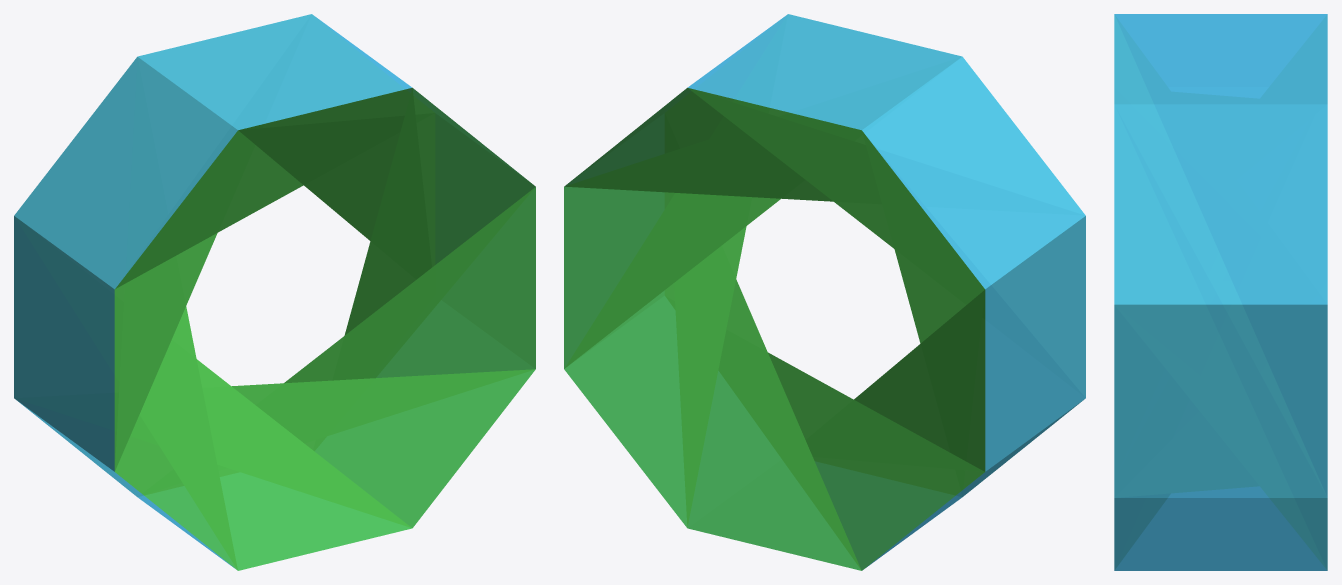
File: OctagonalIrisToroid.obj
The picture shows the model from 3 angles, left to right: view 1: azimuth 30°, elevation 25°; view 2: azimuth 150°, elevation 25°; view 3: azimuth 270°, elevation 25°; orthographic projection. The views are drawn at different scales.
Bounding box in the file's own units: 2.41 × 2.41 × 1.
